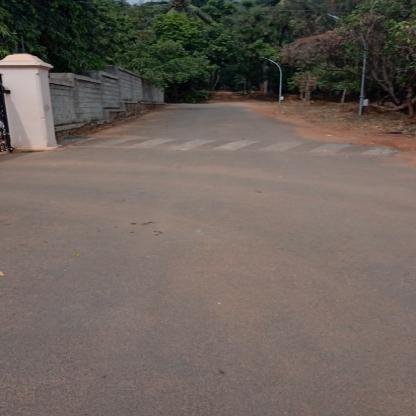speed-bumps: (69, 128, 406, 162)
